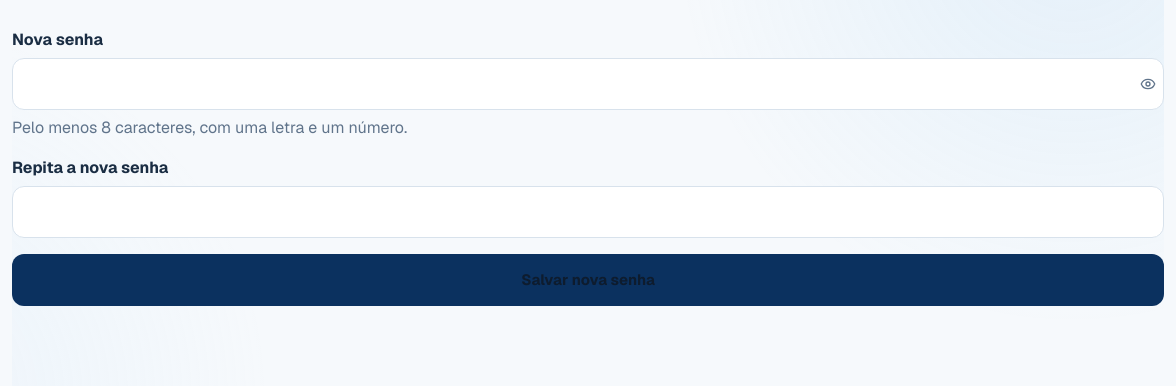
Test: quando o servidor recusa › mostra a mensagem e mantém o formulário para nova tentativa
Type "clinica2026" into the password field labelled "Nova senha" at (588,84), box x1=12 y1=58 x2=1164 y2=110
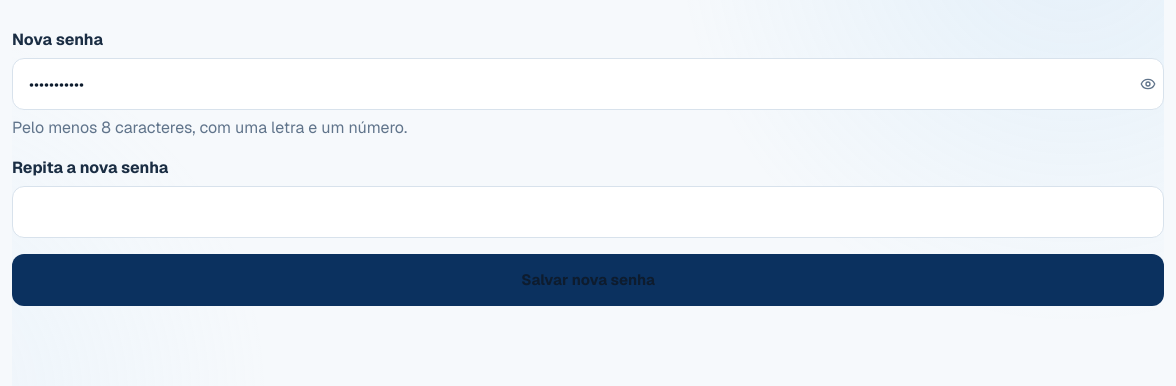
Type "clinica2026" into the password field labelled "Repita a nova senha" at (588,212), box x1=12 y1=186 x2=1164 y2=238
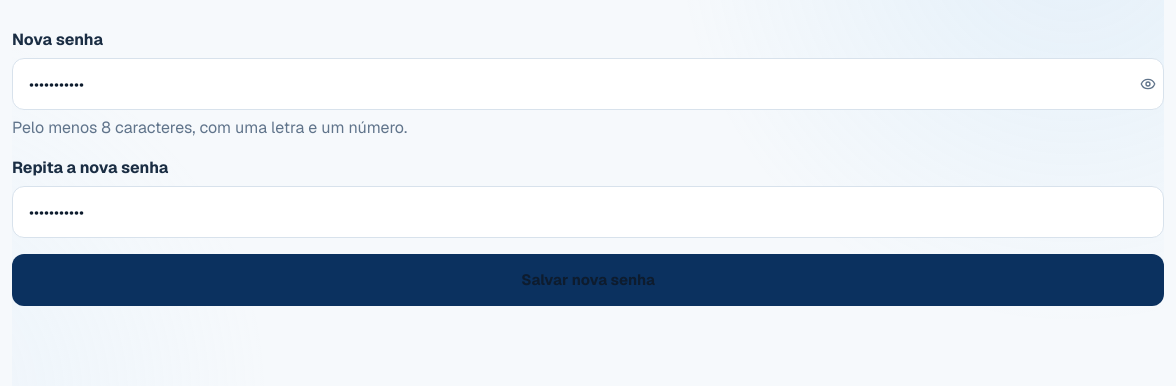
Click the button "Salvar nova senha" at (588,280), box x1=12 y1=254 x2=1164 y2=306
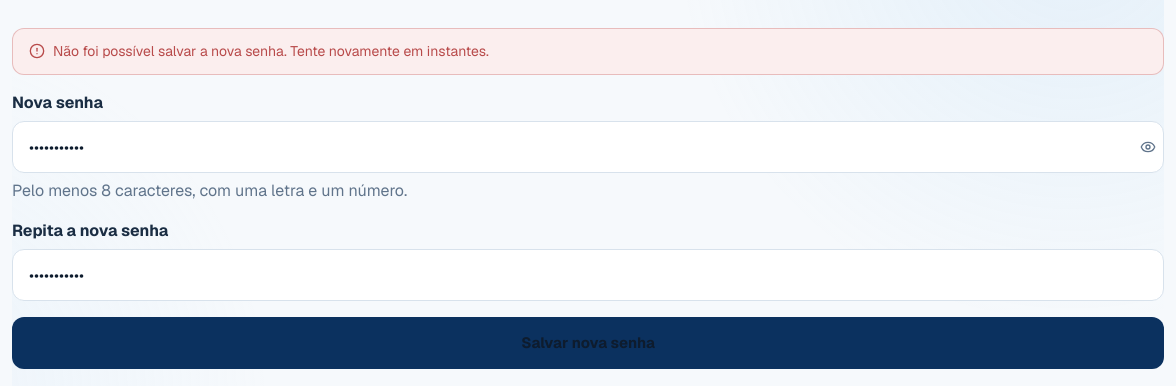
Expected: the button "Salvar nova senha" is shown, x1=12 y1=317 x2=1164 y2=369
Expected: the message shows "Não foi possível salvar", x1=53 y1=42 x2=489 y2=60
